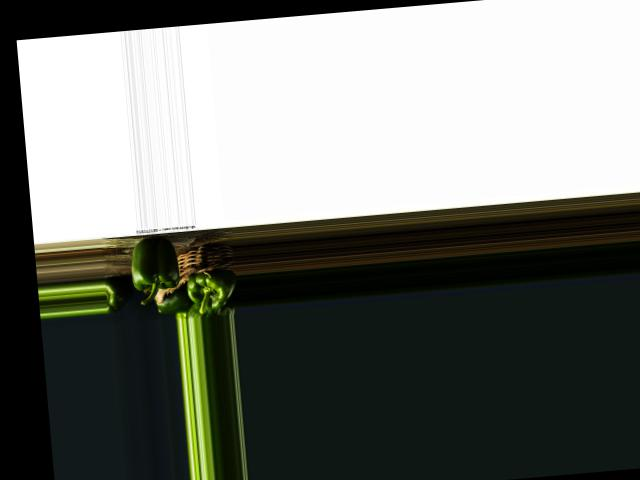bell_pepper: (103, 282, 125, 313)
